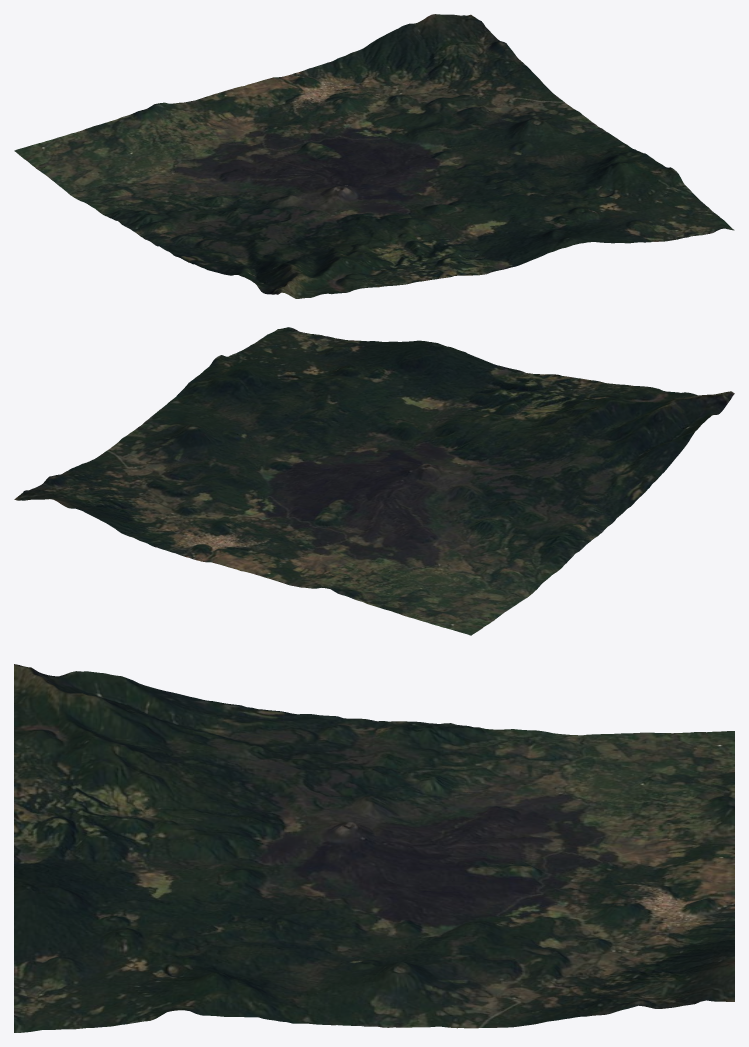
Rendered from nature_paricutin_dem_s2.glb.
The picture shows the model from 3 angles, top to bottom: view 1: azimuth 30°, elevation 25°; view 2: azimuth 150°, elevation 25°; view 3: azimuth 270°, elevation 25°; orthographic projection. The views are drawn at different scales.
Parts seen in each view (by area): view 1: R99_DEM_GLB_nature_paricutin; view 2: R99_DEM_GLB_nature_paricutin; view 3: R99_DEM_GLB_nature_paricutin.
Boxes of the visible parts, x1,y1,x2,y2 form: R99_DEM_GLB_nature_paricutin: (14,14,734,298); R99_DEM_GLB_nature_paricutin: (14,327,734,635); R99_DEM_GLB_nature_paricutin: (14,664,734,1032).
Bounding box in the file's own units: 10.8 × 1.22 × 10.8.
Materials: 1 (1 with a texture image).
